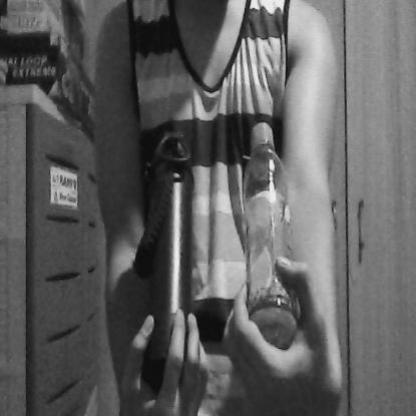Plastic Bottle: (231, 107, 307, 357)
